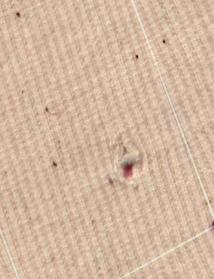hole: (107, 149, 147, 184)
stain: (122, 48, 150, 73), (153, 29, 178, 54), (45, 152, 68, 178), (8, 5, 32, 26), (35, 100, 58, 120)
